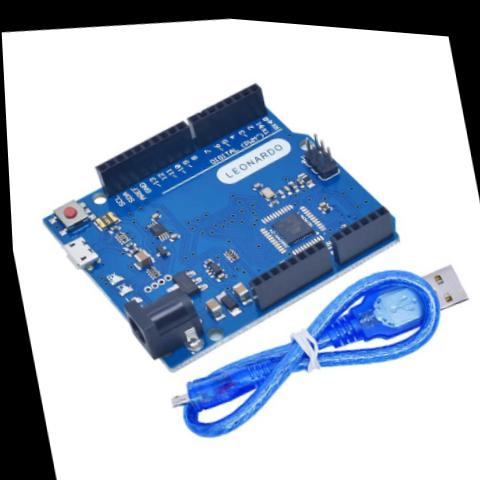Arduino-Leonardo: (1, 29, 428, 409)
